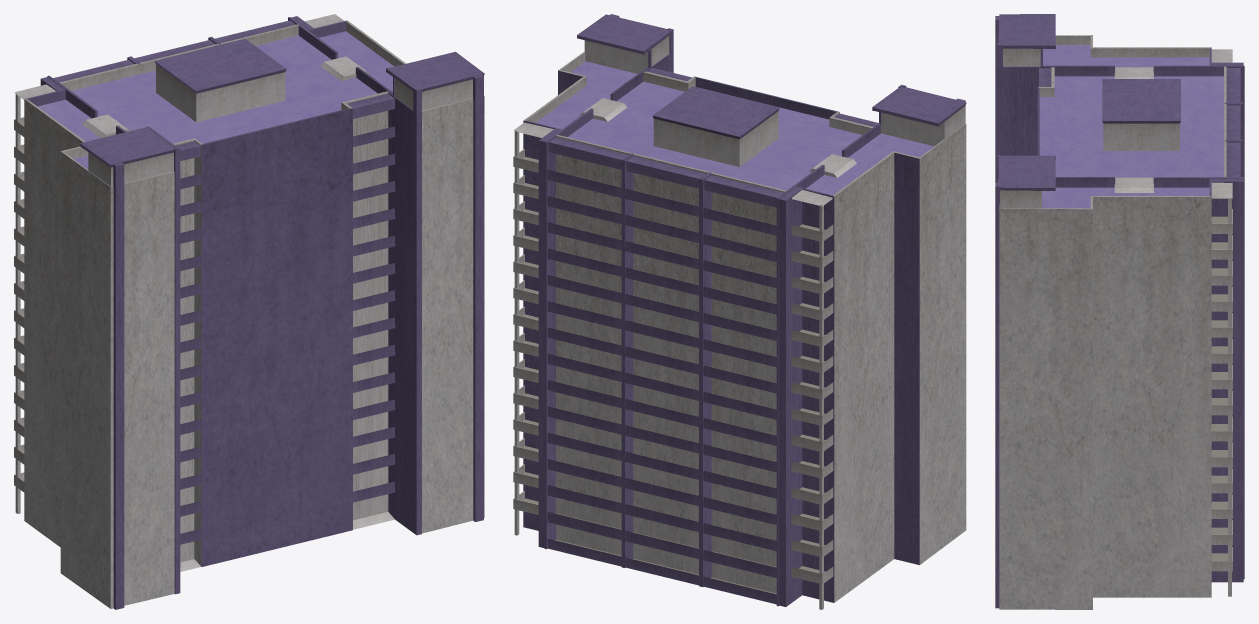
Rendered from ORB_6_Center_S15_Detail_3.fbx.
The picture shows the model from 3 angles, left to right: view 1: azimuth 30°, elevation 25°; view 2: azimuth 150°, elevation 25°; view 3: azimuth 270°, elevation 25°; orthographic projection. The views are drawn at different scales.
Visible parts, largest first — view 1: ORB_6_Center_S15_Detail_3; view 2: ORB_6_Center_S15_Detail_3; view 3: ORB_6_Center_S15_Detail_3.
Boxes of the visible parts, box(x1,y1,x2,y2) form: ORB_6_Center_S15_Detail_3: box(14, 14, 484, 609); ORB_6_Center_S15_Detail_3: box(513, 14, 966, 609); ORB_6_Center_S15_Detail_3: box(995, 14, 1244, 609).
Bounding box in the file's own units: 4197 × 4758 × 2543.
